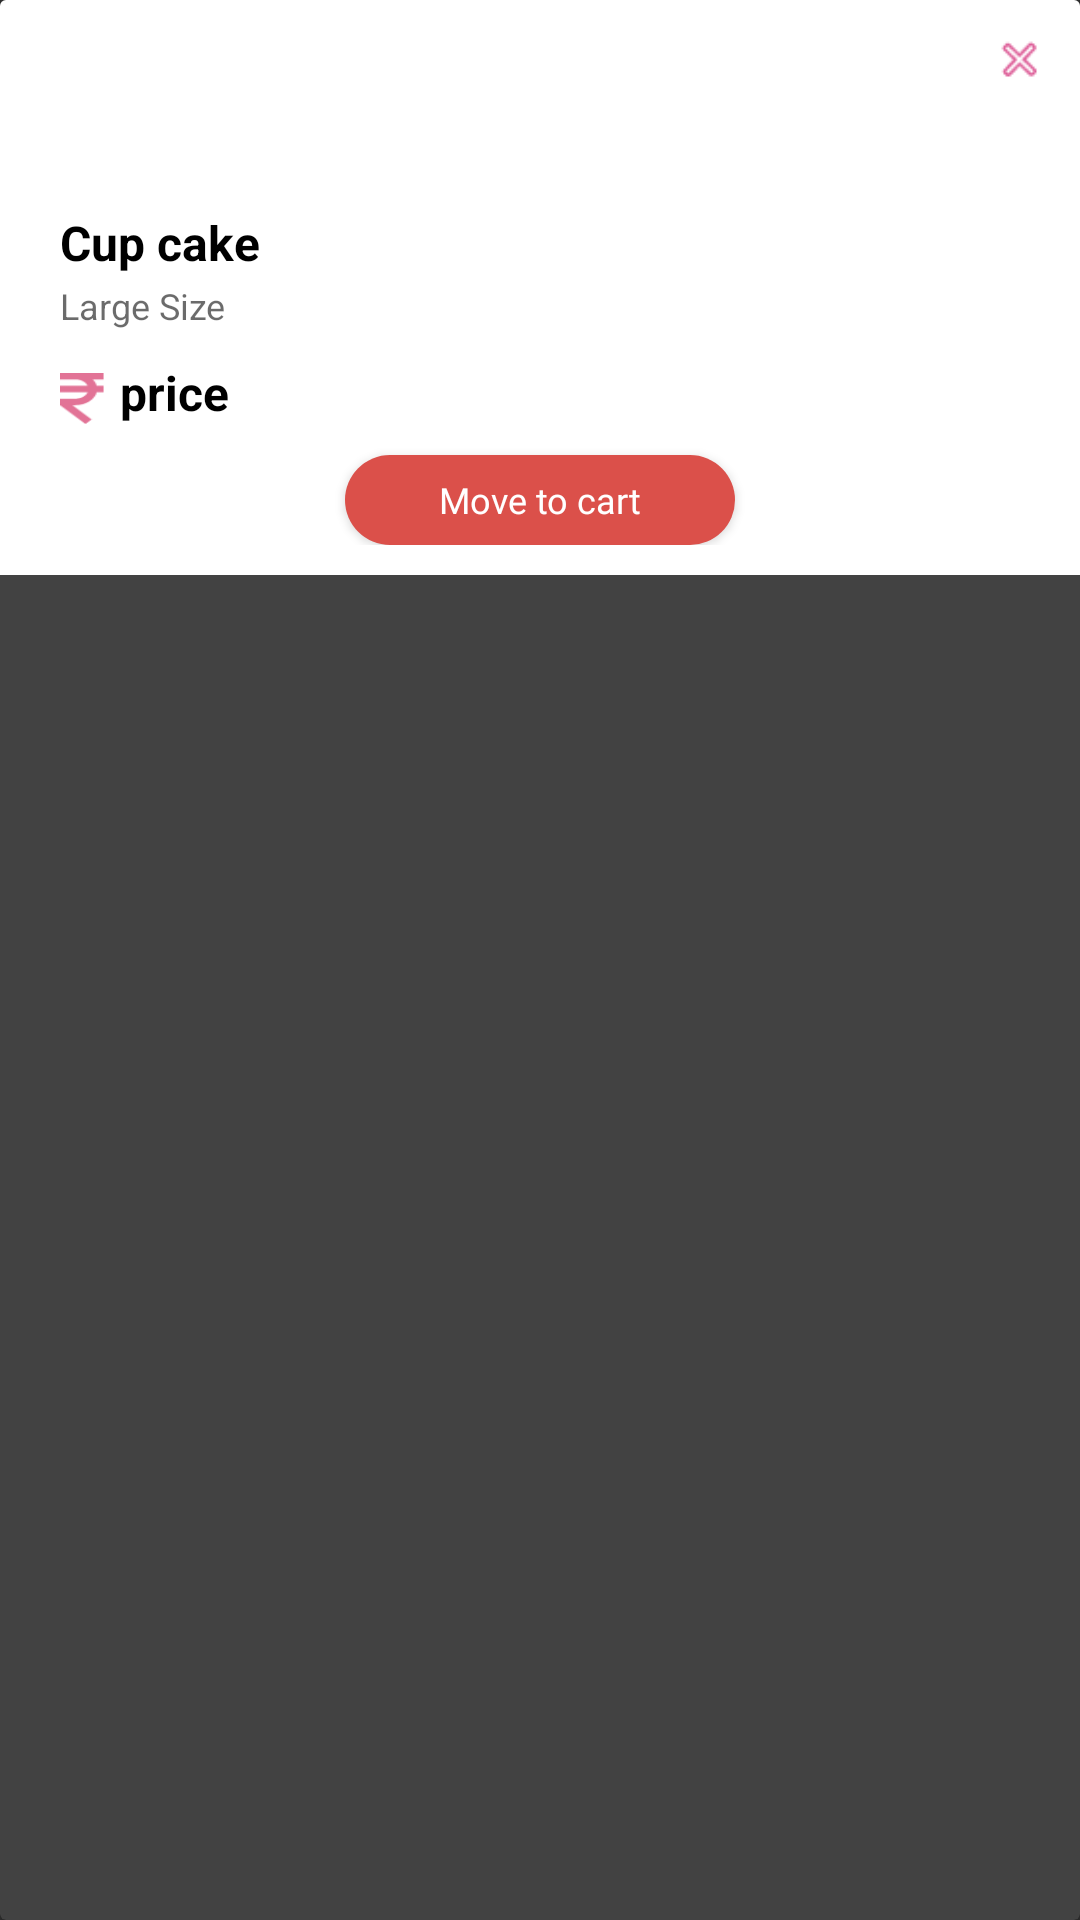

Icons on this 1080 × 1920 Android screen, each with the point to tap as point (x, y):
crosssolid: point (1019, 59)
rupee: point (82, 398)
